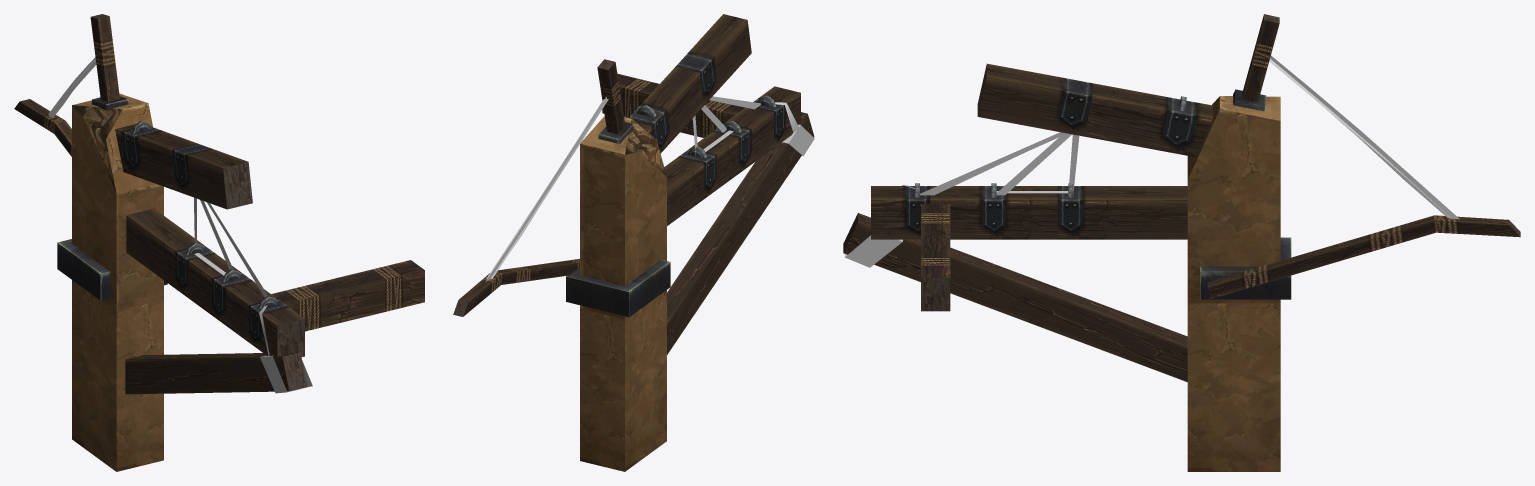
The model's file is A_mutou_005.fbx.
3 views of the same model, side by side, from view 1: azimuth 30°, elevation 25°; view 2: azimuth 150°, elevation 25°; view 3: azimuth 270°, elevation 25° (orthographic). The views are drawn at different scales.
Parts seen in each view (by area): view 1: pasted__A_mutou_005; view 2: pasted__A_mutou_005; view 3: pasted__A_mutou_005.
Boxes of the visible parts, x1,y1,x2,y2 form: pasted__A_mutou_005: [14, 14, 424, 471]; pasted__A_mutou_005: [453, 14, 814, 471]; pasted__A_mutou_005: [843, 14, 1520, 471].
Size of the model in its own units: 300 by 632 by 876.
